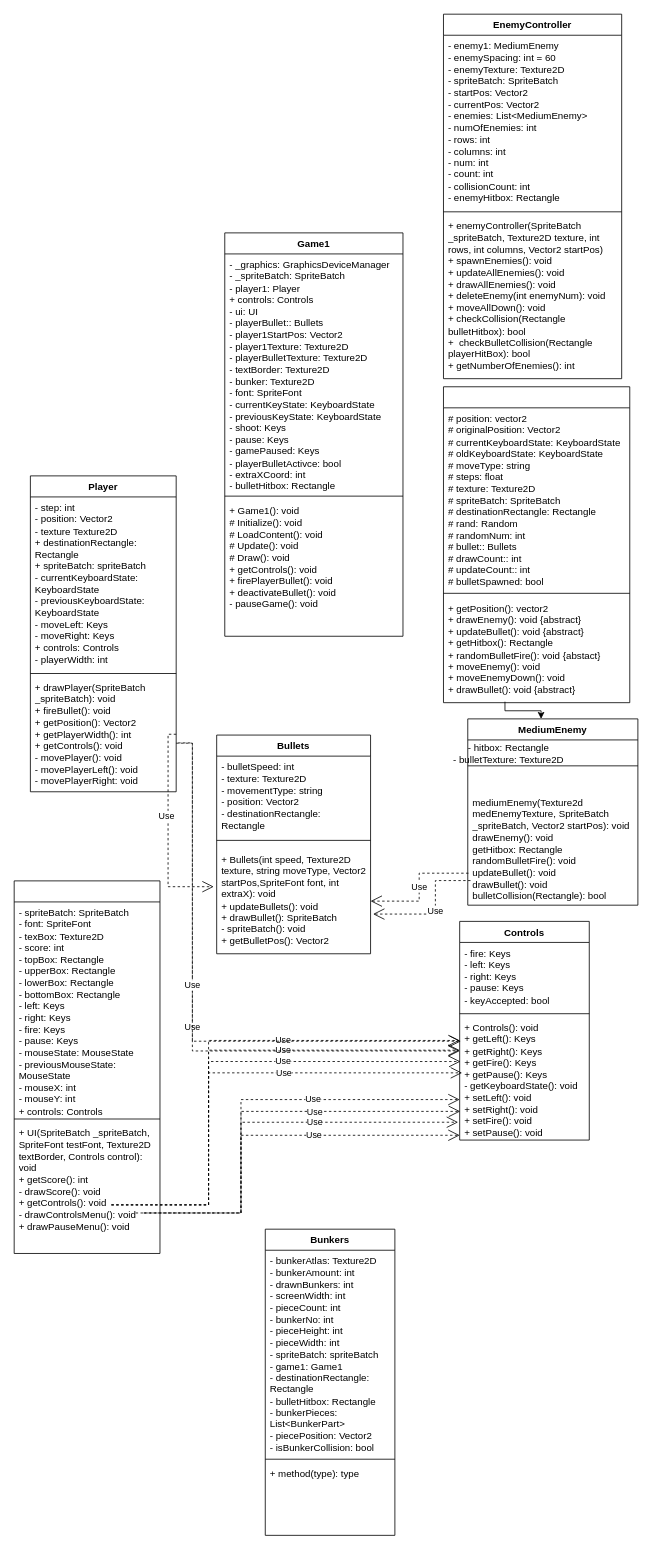
Image size: 652x1552. Some labels were removed from this diagram. The shapes that lost their labels are listed below. From the top down, each one's box as (x1, y1, x2, y2) in pixels, then its label:
(443, 386, 630, 703): enemies {abstract}
(13, 880, 160, 1253): UI
